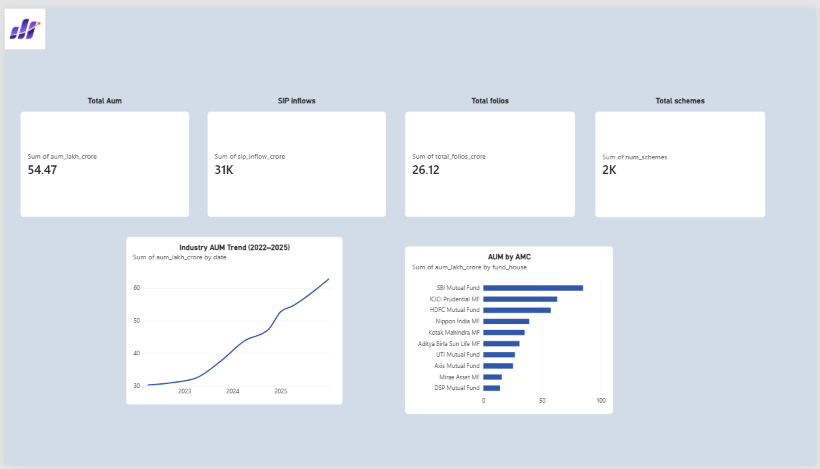

This screenshot's page, from the dashboard's own definition file:
{"tool":"powerbi","page":{"name":"industry overview ","canvas":[1920,1080],"ordinal":0},"visuals":[{"type":"lineChart","title":"Industry AUM Trend (2022–2025)","fields":{"Category":["aum_by_fund.date.Variation.Date Hierarchy.Year"],"Y":["Sum(aum_by_fund.aum_lakh_crore)"]},"box":[287.6,539.3,512.5,397.5],"z":0},{"type":"barChart","title":"AUM by AMC","fields":{"Category":["aum_by_fund.fund_house"],"Y":["Sum(aum_by_fund.aum_lakh_crore)"]},"box":[948.7,561.6,492.5,397.5],"z":1000},{"type":"cardVisual","title":"Total Aum","fields":{"Data":["Sum(aum_by_fund.aum_lakh_crore)"]},"box":[36.7,206.7,400,286.7],"z":2000},{"type":"cardVisual","title":"SIP inflows ","fields":{"Data":["Sum(monthly_sip_inflows.sip_inflow_crore)"]},"box":[480,206.7,423.3,286.7],"z":3000},{"type":"cardVisual","title":"Total folios ","fields":{"Data":["Sum(industry_folio_count.total_folios_crore)"]},"box":[948.1,206.9,403.3,286.7],"z":4000},{"type":"cardVisual","title":"Total schemes","fields":{"Data":["Sum(aum_by_fund.num_schemes)"]},"box":[1398.1,206.9,403,287],"z":5000},{"type":"image","box":[0,0,96.7,96.7],"z":6000}]}

Visuals, with their boxes in screenshot pixels (x1, y1, x2, y2), scaled from the page's 1920x1080 canvas onto the 820x469 screenshot:
"Industry AUM Trend (2022–2025)" lineChart: (x1=123, y1=234, x2=342, y2=407)
"AUM by AMC" barChart: (x1=405, y1=244, x2=616, y2=416)
"Total Aum" cardVisual: (x1=16, y1=90, x2=187, y2=214)
"SIP inflows " cardVisual: (x1=205, y1=90, x2=386, y2=214)
"Total folios " cardVisual: (x1=405, y1=90, x2=577, y2=214)
"Total schemes" cardVisual: (x1=597, y1=90, x2=769, y2=214)
image: (x1=0, y1=0, x2=41, y2=42)
